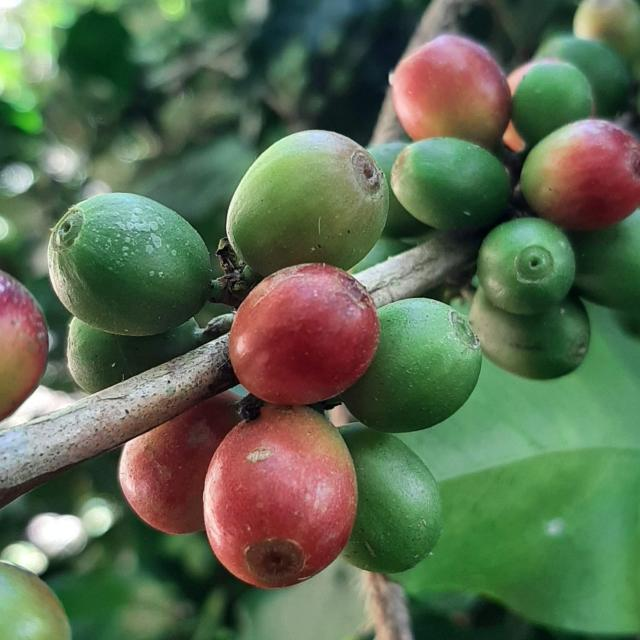green: (341, 288, 591, 574), (226, 130, 389, 276), (47, 193, 211, 336), (342, 298, 483, 433), (392, 137, 512, 230), (66, 317, 206, 394), (478, 217, 577, 315), (537, 34, 632, 116), (513, 60, 594, 147)
yellow: (203, 405, 358, 590), (229, 263, 380, 406), (118, 392, 239, 535), (391, 33, 512, 149), (521, 118, 640, 230), (0, 270, 47, 421)
